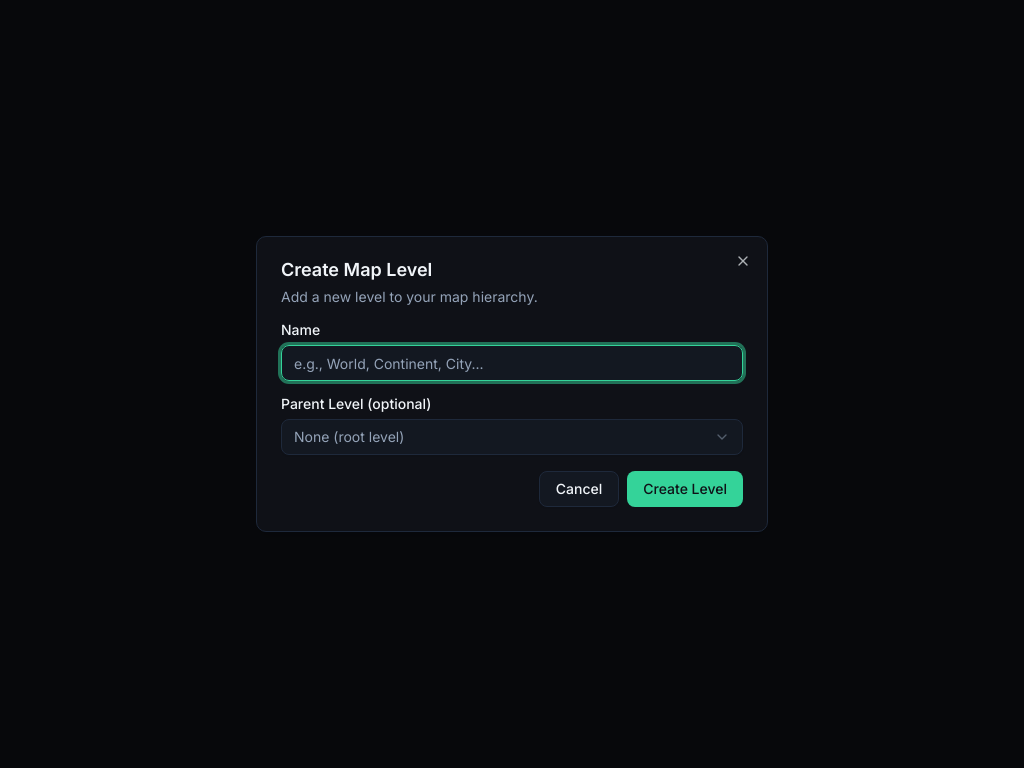
Scenario: CreateMapLevelDialog › should show validation error for empty name
Click the button "Create Level".
click(685, 489)  # box top-left (627, 471), bottom-right (743, 507)
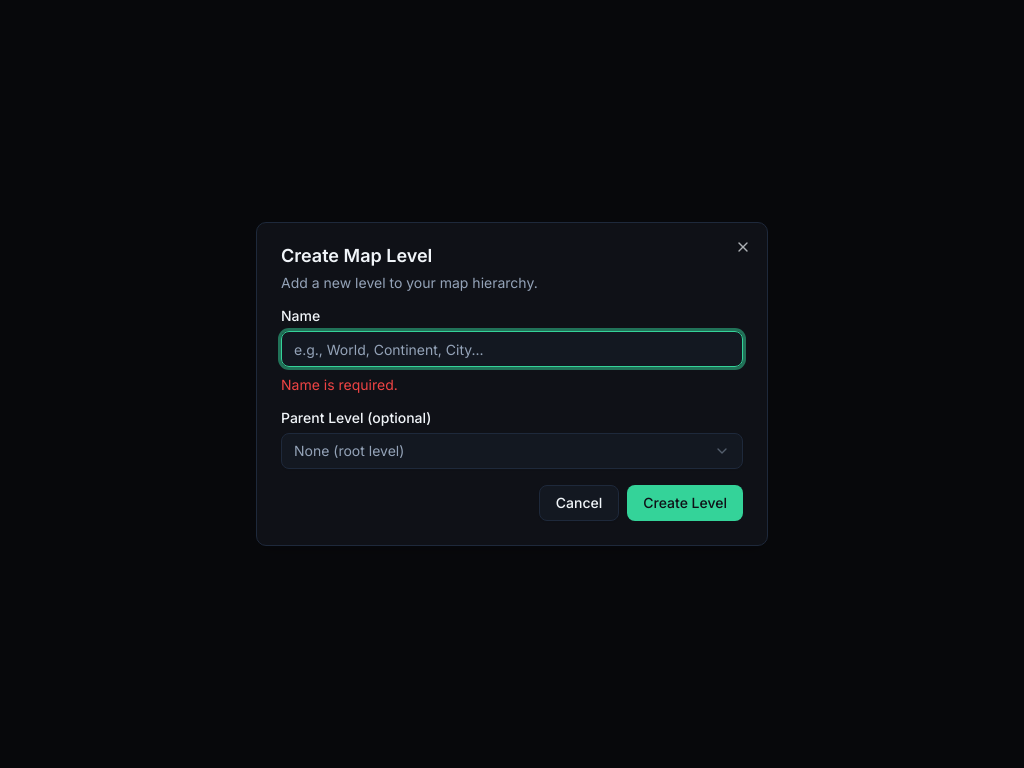
Expected: the text "Name is required." is shown, top-left (281, 376), bottom-right (398, 393)
